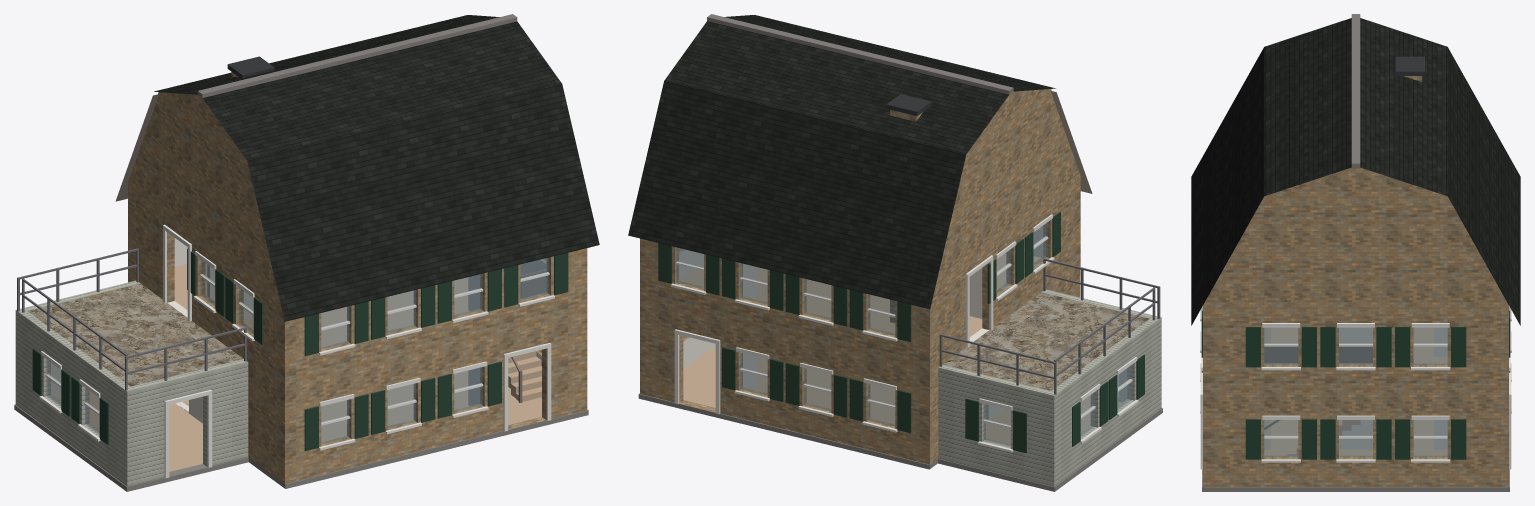
The model's file is mh-gambrel-house.towns-v1.lod0.glb.
The picture shows the model from 3 angles, left to right: view 1: azimuth 30°, elevation 25°; view 2: azimuth 150°, elevation 25°; view 3: azimuth 270°, elevation 25°; orthographic projection. The views are drawn at different scales.
Parts seen in each view (by area): view 1: mh-gambrel-house; view 2: mh-gambrel-house; view 3: mh-gambrel-house.
Part boxes in pixels (x1,y1,x2,y2): mh-gambrel-house: [14, 14, 599, 491]; mh-gambrel-house: [628, 14, 1162, 491]; mh-gambrel-house: [1191, 14, 1520, 491].
Size of the model in its own units: 14.3 by 10.75 by 9.7.
Materials: 8 (4 with a texture image).
